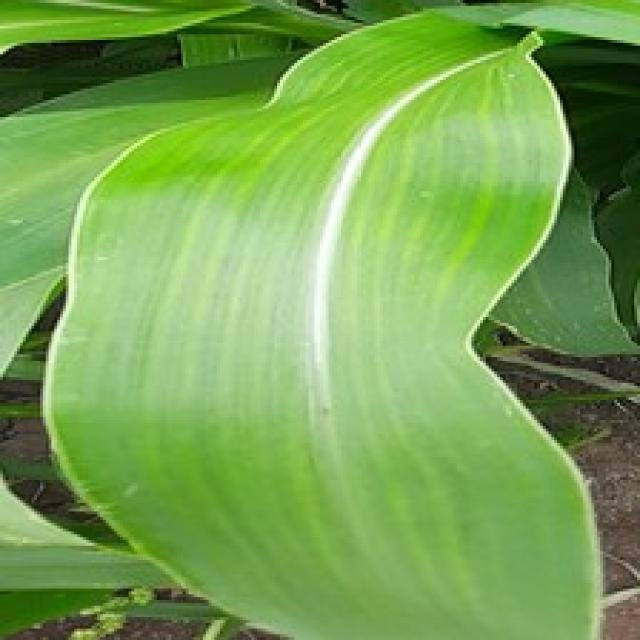Corn: (40, 6, 606, 637), (0, 46, 306, 388)
